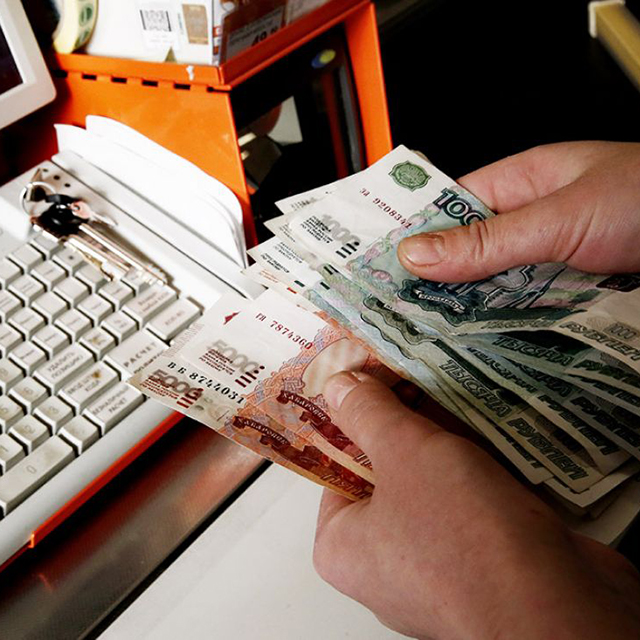banknotes: (260, 146, 635, 499), (132, 286, 397, 505)
